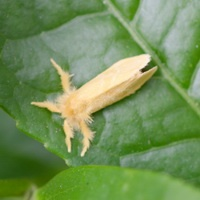insect: (31, 54, 157, 155)
